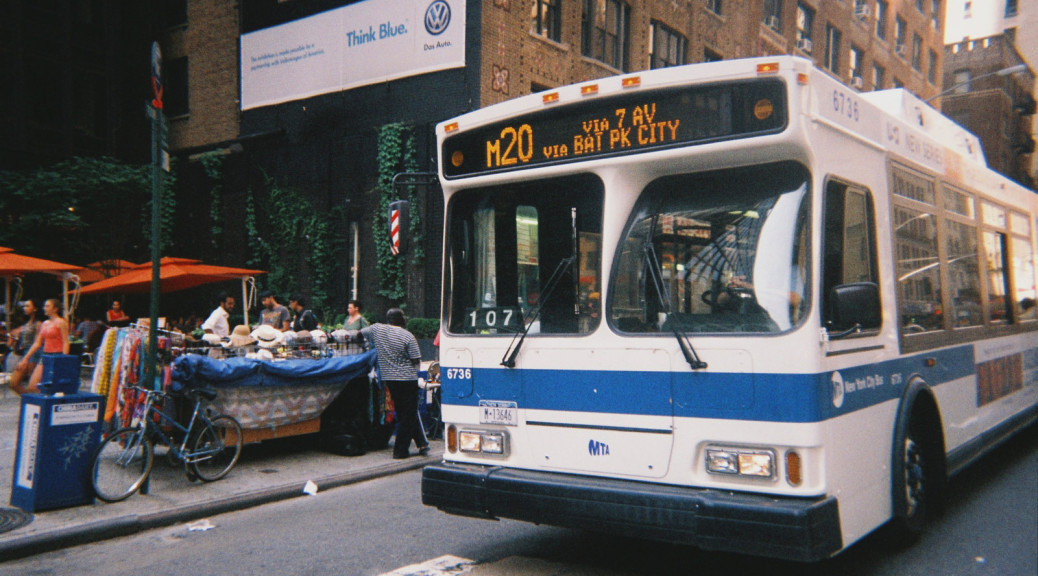bus: (418, 81, 1038, 559)
